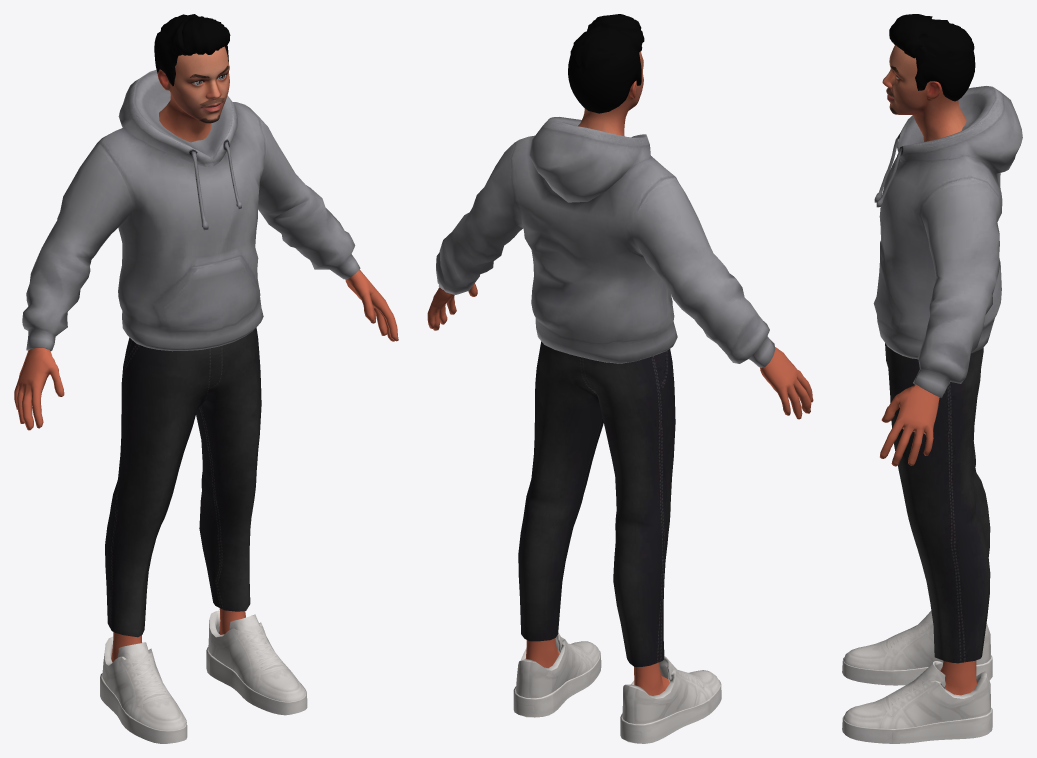
The picture shows the model from 3 angles, left to right: view 1: azimuth 30°, elevation 25°; view 2: azimuth 150°, elevation 25°; view 3: azimuth 270°, elevation 25°; orthographic projection.
Visible parts, largest first — view 1: Wolf3D_Outfit_Top, Wolf3D_Outfit_Bottom, Wolf3D_Outfit_Footwear, Wolf3D_Head, Wolf3D_Body, Wolf3D_Hair; view 2: Wolf3D_Outfit_Top, Wolf3D_Outfit_Bottom, Wolf3D_Outfit_Footwear, Wolf3D_Hair, Wolf3D_Body, Wolf3D_Head; view 3: Wolf3D_Outfit_Top, Wolf3D_Outfit_Bottom, Wolf3D_Outfit_Footwear, Wolf3D_Hair, Wolf3D_Body, Wolf3D_Head.
Part boxes in pixels (<box>): Wolf3D_Outfit_Top: <box>22,69,360,351</box>; Wolf3D_Outfit_Bottom: <box>105,327,261,637</box>; Wolf3D_Outfit_Footwear: <box>100,610,307,743</box>; Wolf3D_Head: <box>157,46,229,142</box>; Wolf3D_Body: <box>14,269,398,662</box>; Wolf3D_Hair: <box>154,14,230,85</box>; Wolf3D_Outfit_Top: <box>436,117,775,367</box>; Wolf3D_Outfit_Bottom: <box>518,341,675,666</box>; Wolf3D_Outfit_Footwear: <box>513,633,721,743</box>; Wolf3D_Hair: <box>568,14,644,113</box>; Wolf3D_Body: <box>427,283,813,695</box>; Wolf3D_Head: <box>578,51,643,136</box>; Wolf3D_Outfit_Top: <box>873,86,1022,397</box>; Wolf3D_Outfit_Bottom: <box>885,343,990,663</box>; Wolf3D_Outfit_Footwear: <box>842,611,992,743</box>; Wolf3D_Hair: <box>889,14,975,101</box>; Wolf3D_Body: <box>880,384,977,695</box>; Wolf3D_Head: <box>882,45,966,141</box>.
Bounding box in the file's own units: 1.06 × 1.86 × 0.4455.
9 materials, 9 textured.
